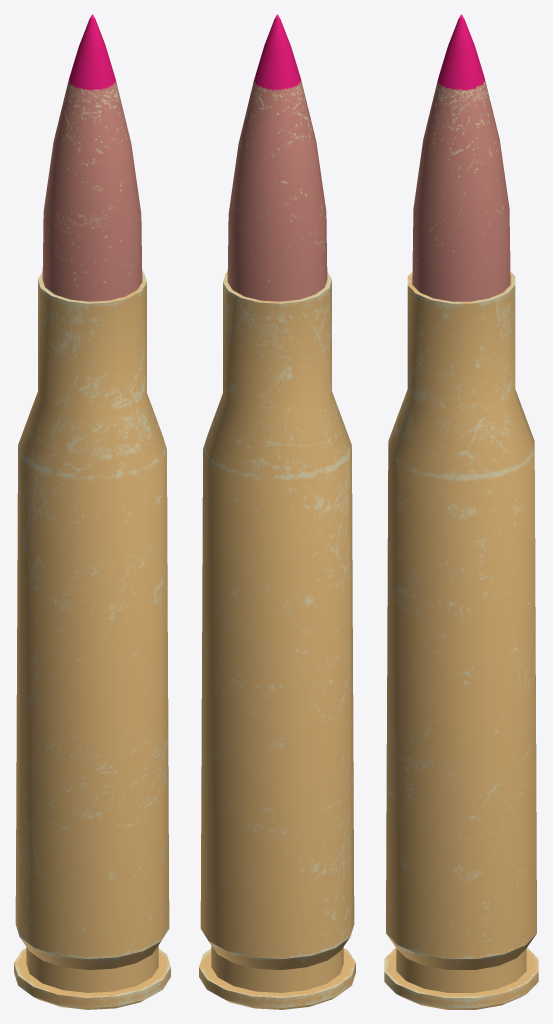
The model's file is Bullet.fbx.
3 renders of one model, left to right at view 1: azimuth 30°, elevation 25°; view 2: azimuth 150°, elevation 25°; view 3: azimuth 270°, elevation 25°, orthographic.
Visible parts, largest first — view 1: Bullet; view 2: Bullet; view 3: Bullet.
Boxes of the visible parts, x1=… form: Bullet: x1=14, y1=14, x2=170, y2=1009; Bullet: x1=199, y1=14, x2=355, y2=1009; Bullet: x1=384, y1=14, x2=538, y2=1009.
Size of the model in its own units: 8.79 by 60.74 by 8.79.
1 material, 1 textured.
